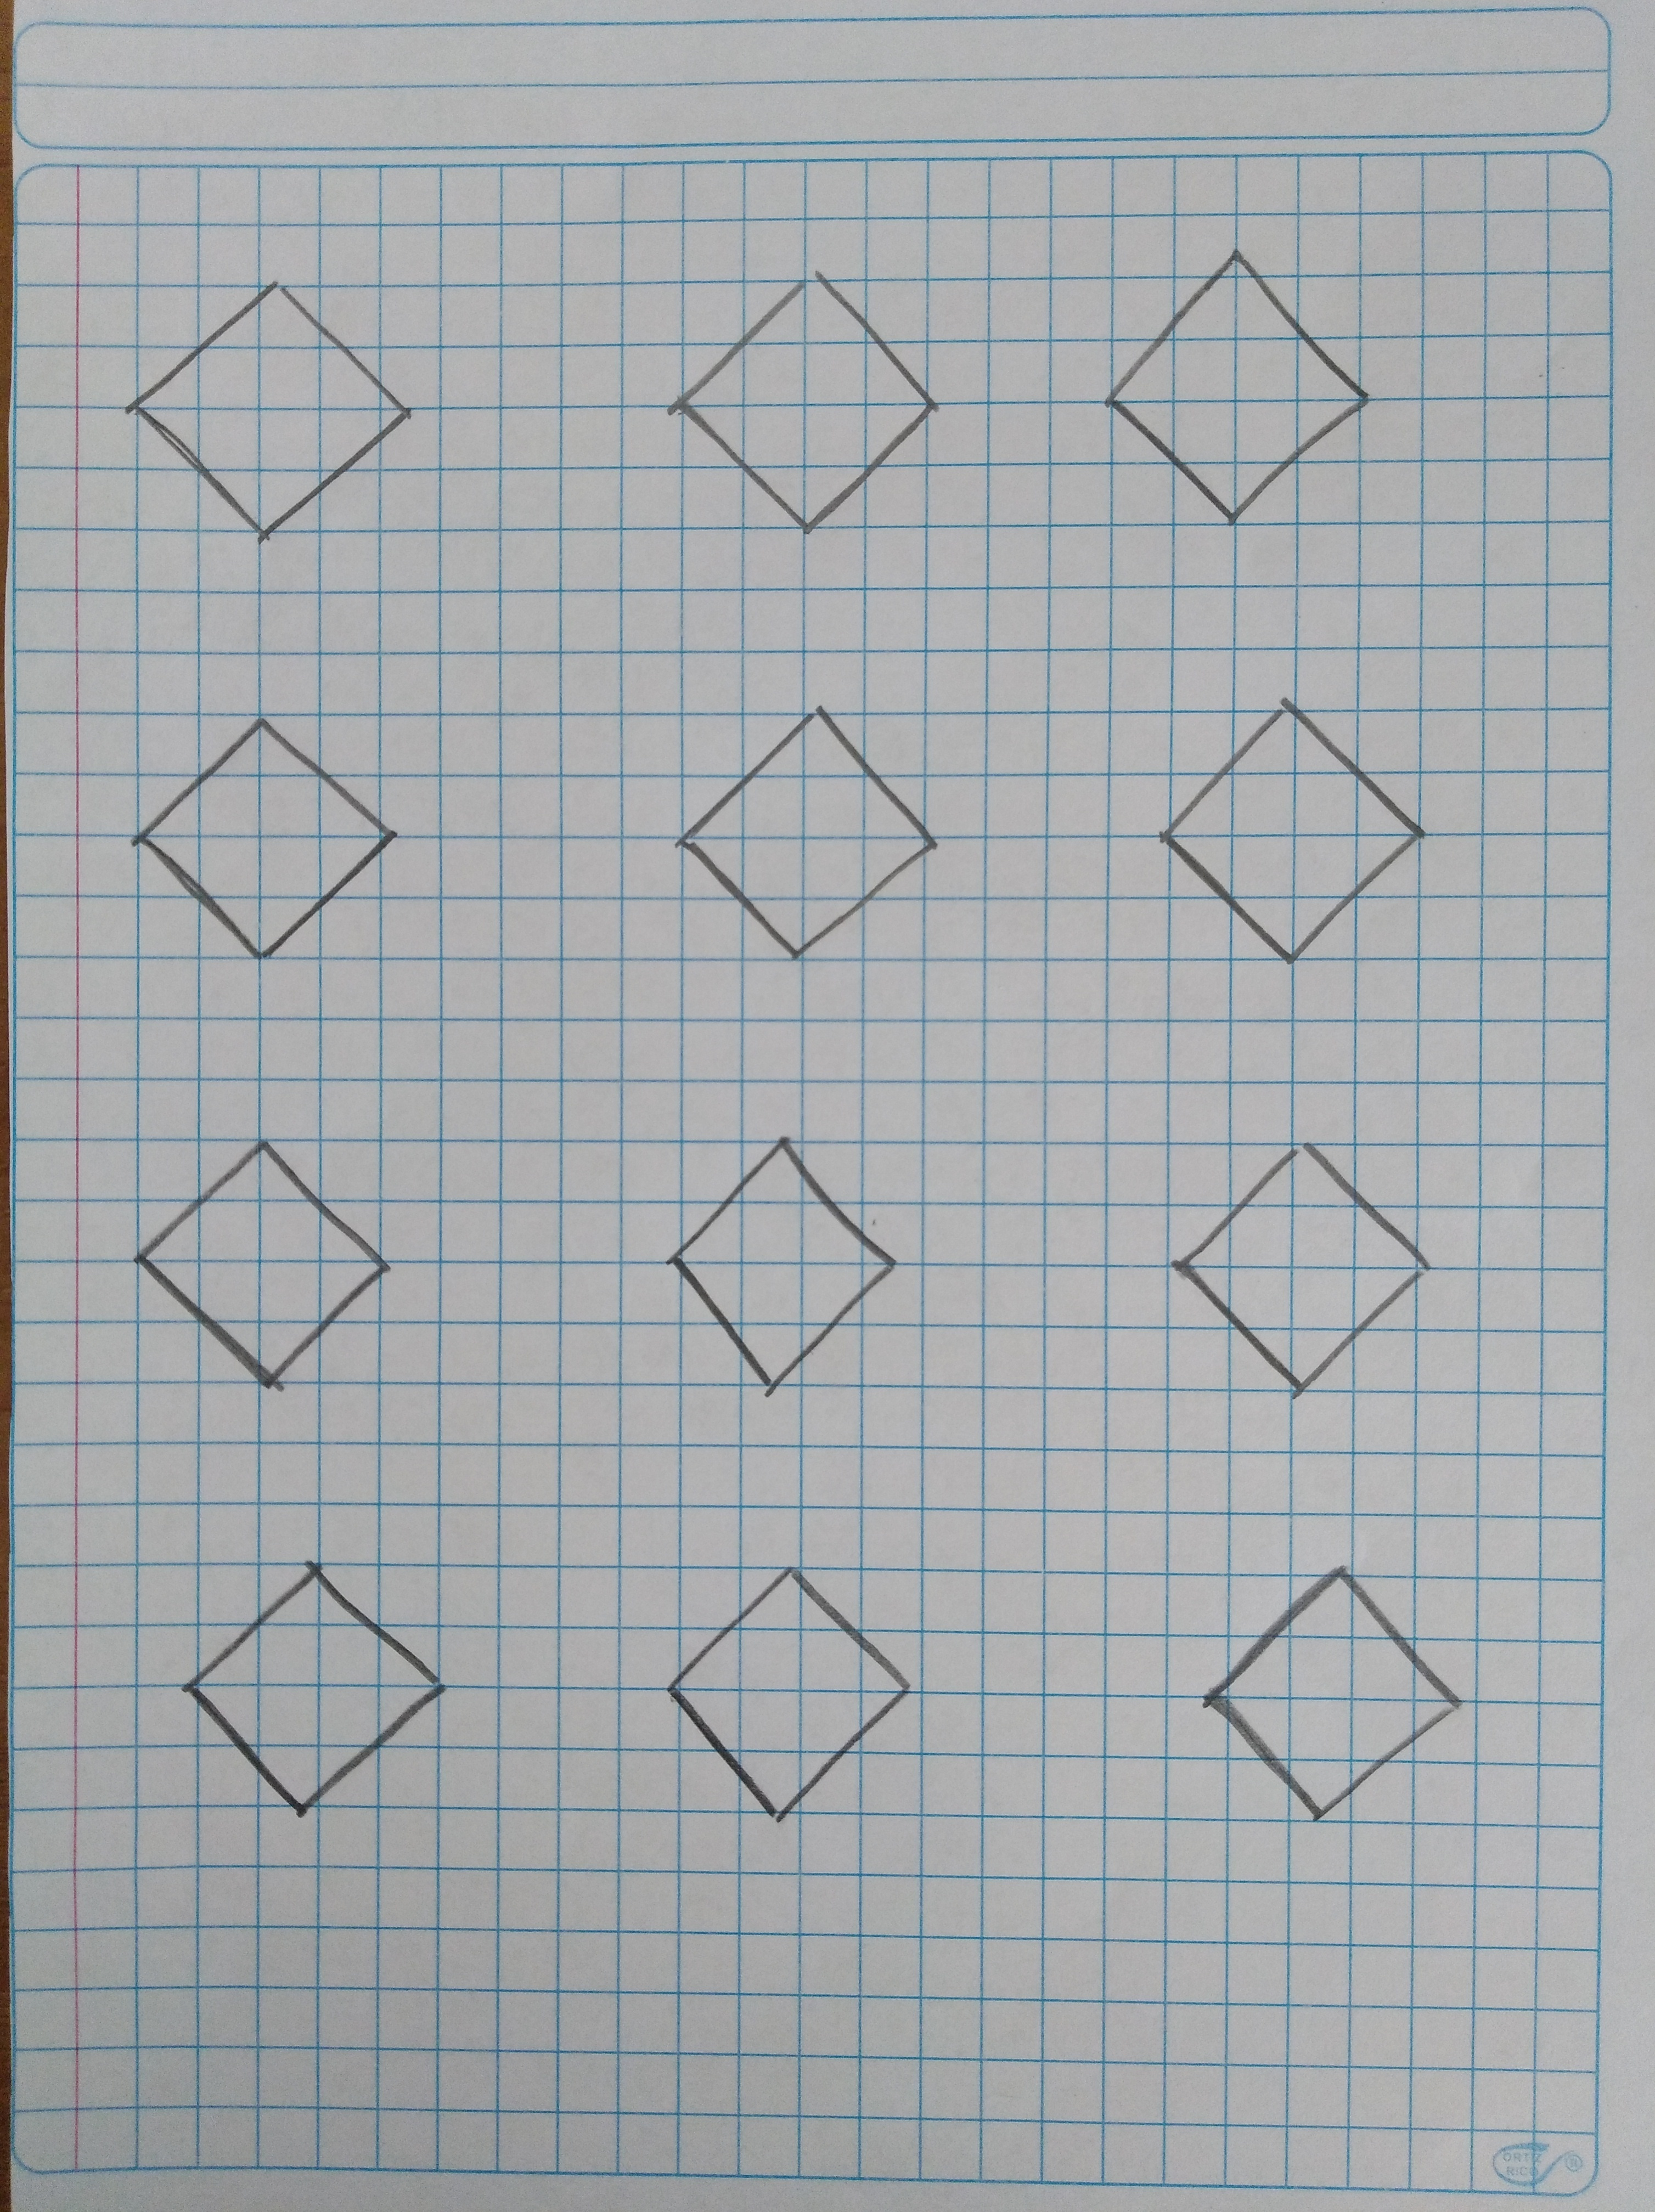decision: (1097, 1102, 1505, 1435), (116, 1527, 520, 1844), (75, 238, 459, 566), (1161, 1513, 1525, 1856), (633, 228, 977, 566), (1121, 664, 1474, 992), (1076, 228, 1394, 580), (626, 681, 994, 985), (99, 1112, 445, 1425), (624, 1531, 953, 1856), (615, 1109, 949, 1425), (99, 688, 449, 985)
